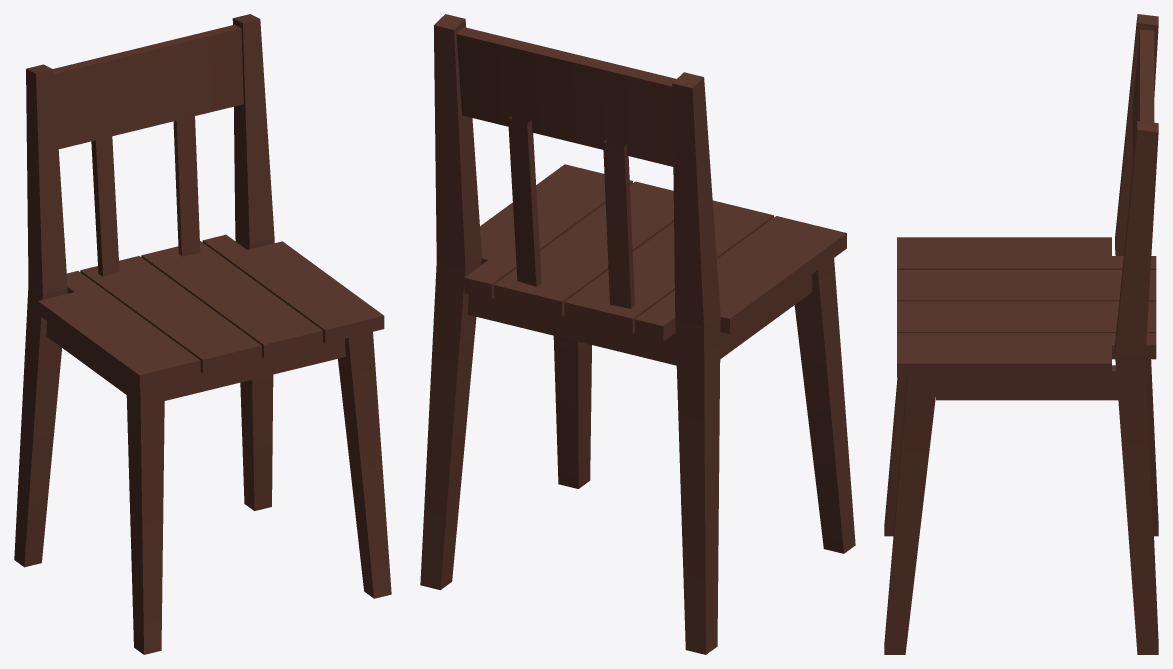
File: Prop_Chair.fbx
The picture shows the model from 3 angles, left to right: view 1: azimuth 30°, elevation 25°; view 2: azimuth 150°, elevation 25°; view 3: azimuth 270°, elevation 25°; orthographic projection. The views are drawn at different scales.
Parts seen in each view (by area): view 1: Prop_Chair; view 2: Prop_Chair; view 3: Prop_Chair.
Part boxes in pixels (bbox=[...]): Prop_Chair: bbox=[14, 14, 391, 654]; Prop_Chair: bbox=[420, 14, 855, 654]; Prop_Chair: bbox=[884, 14, 1158, 654].
Bounding box in the file's own units: 44.59 × 49.11 × 93.02.
